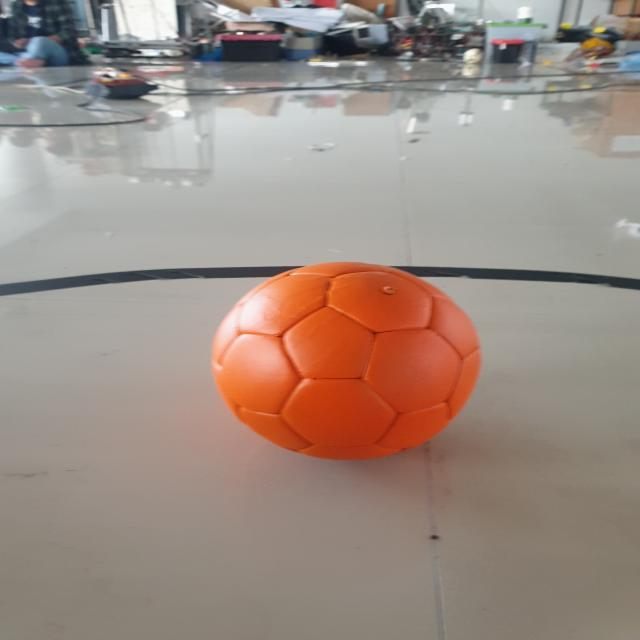bola: (206, 258, 487, 467)
